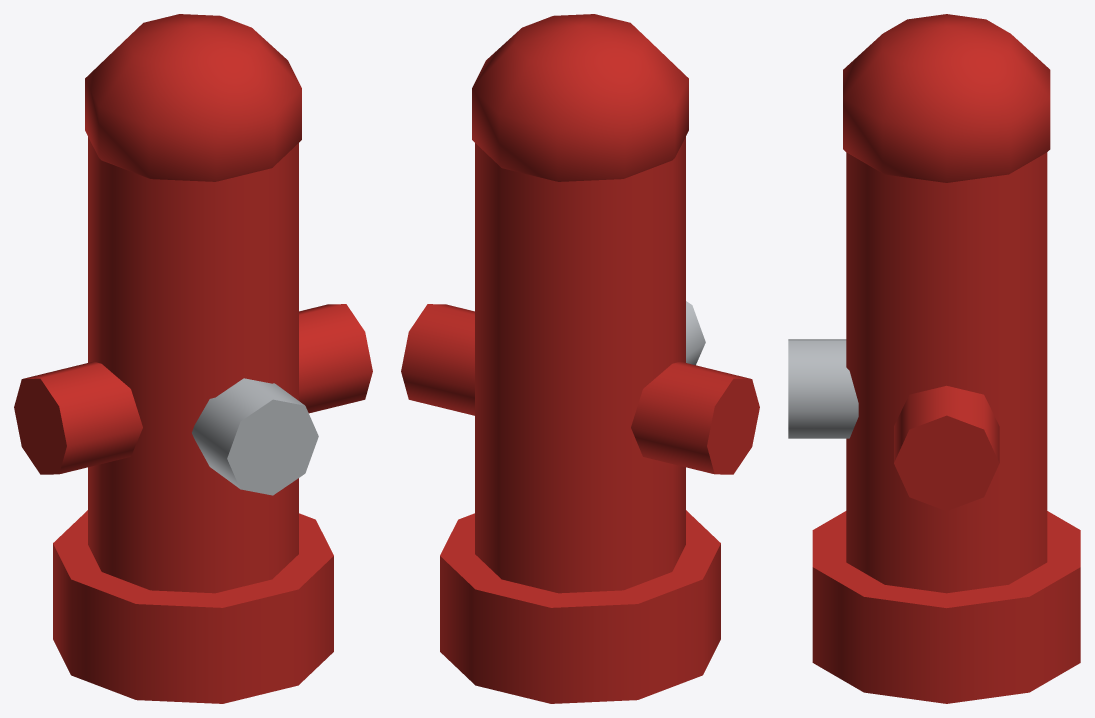
File: sb_fire_hydrant.glb
3 renders of one model, left to right at view 1: azimuth 30°, elevation 25°; view 2: azimuth 150°, elevation 25°; view 3: azimuth 270°, elevation 25°, orthographic.
Parts seen in each view (by area): view 1: sb_fire_hydrant; view 2: sb_fire_hydrant; view 3: sb_fire_hydrant.
Boxes of the visible parts, left/top/right/bottom form: sb_fire_hydrant: left=14, top=14, right=372, bottom=703; sb_fire_hydrant: left=401, top=14, right=759, bottom=703; sb_fire_hydrant: left=788, top=14, right=1080, bottom=703.
Size of the model in its own units: 0.4 by 0.774 by 0.3322.
